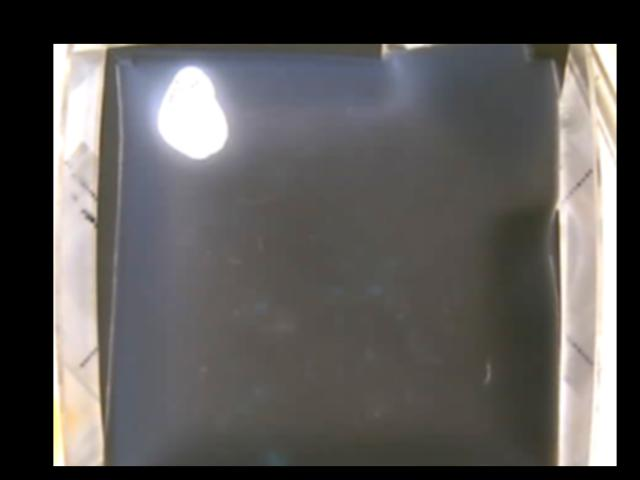Pebble: (156, 66, 227, 157)
